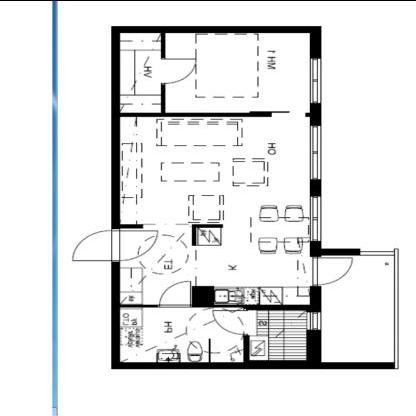door: (67, 223, 161, 261), (108, 220, 159, 264), (71, 225, 123, 263), (309, 253, 355, 289), (156, 276, 192, 309), (159, 54, 196, 85)
window: (303, 121, 324, 181), (304, 53, 325, 107), (305, 194, 325, 244), (304, 306, 324, 334)
